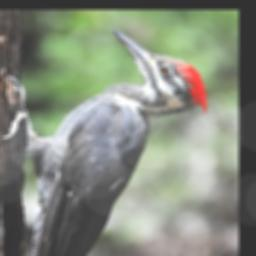Woodpecker: (2, 28, 209, 256)
